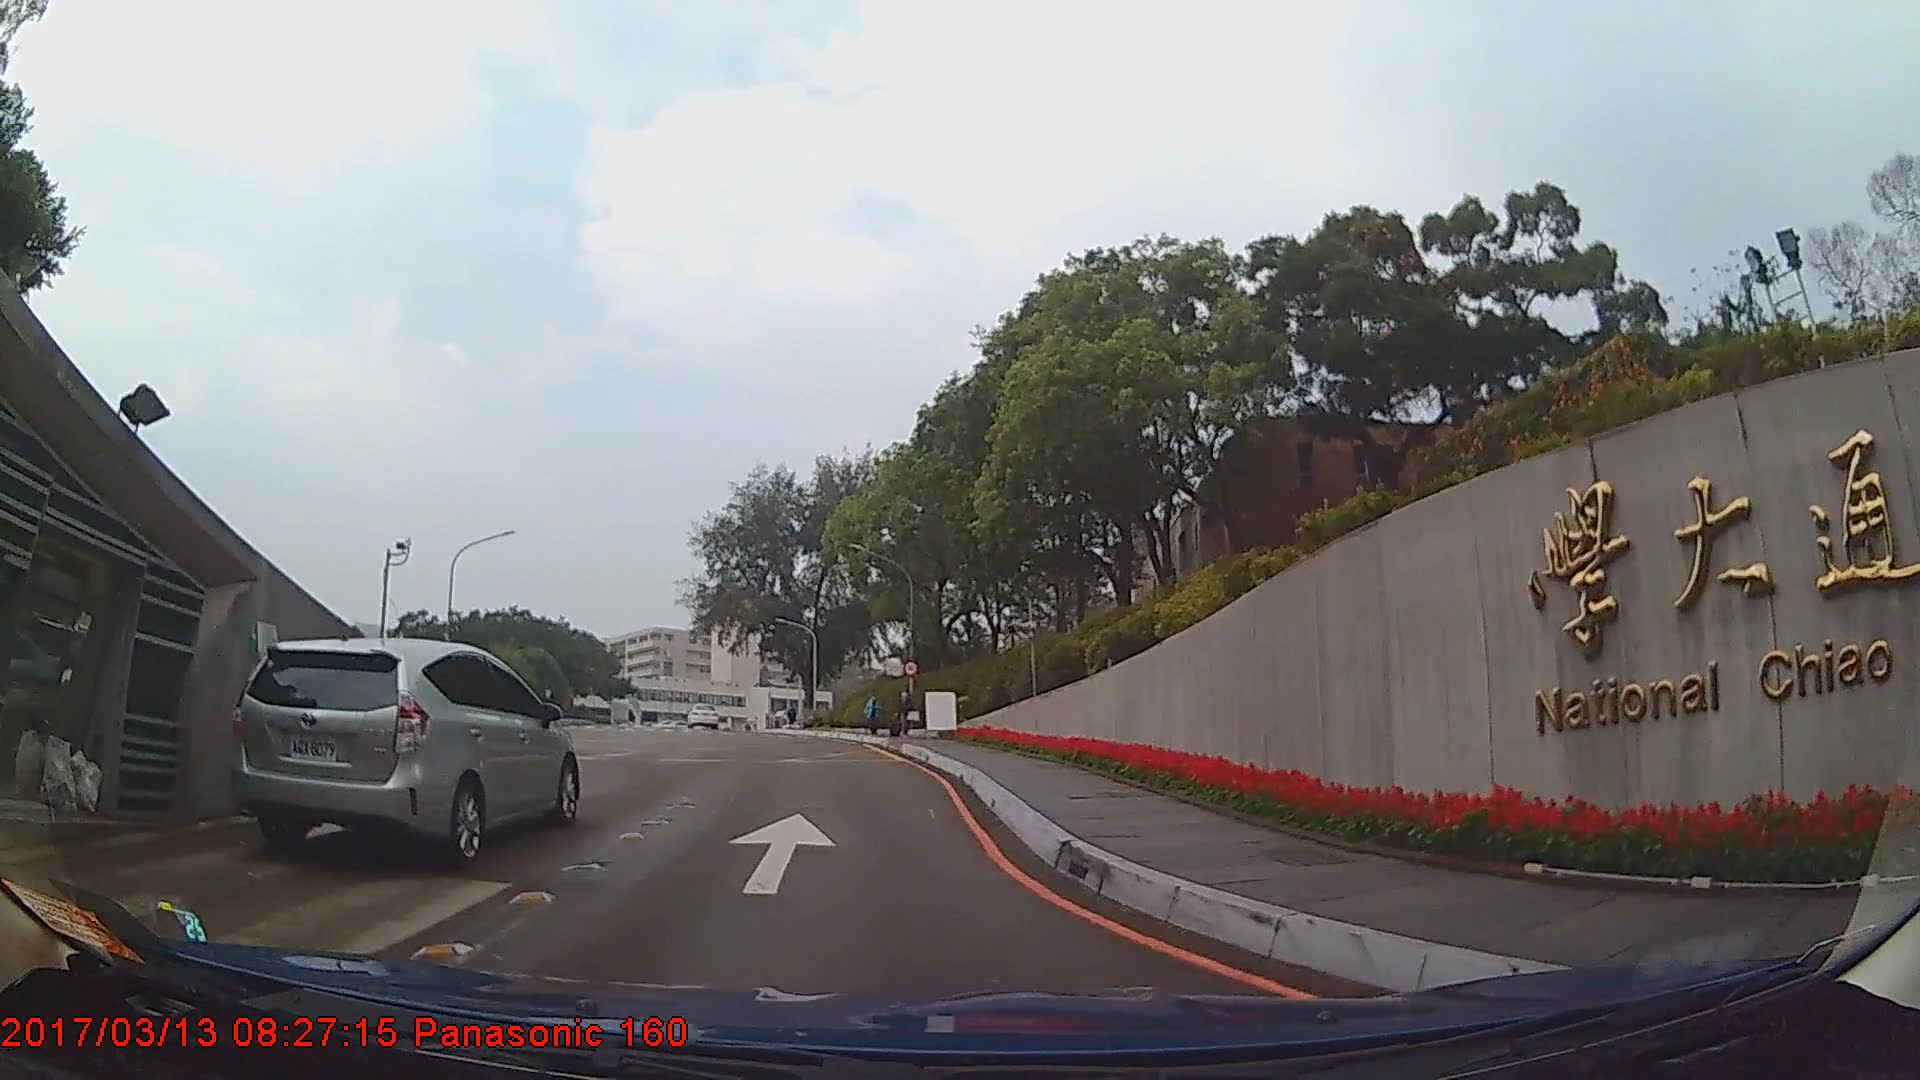pedestrian: (891, 688, 919, 738), (863, 695, 883, 739)
vehicle: (229, 633, 579, 868), (681, 698, 721, 727)
